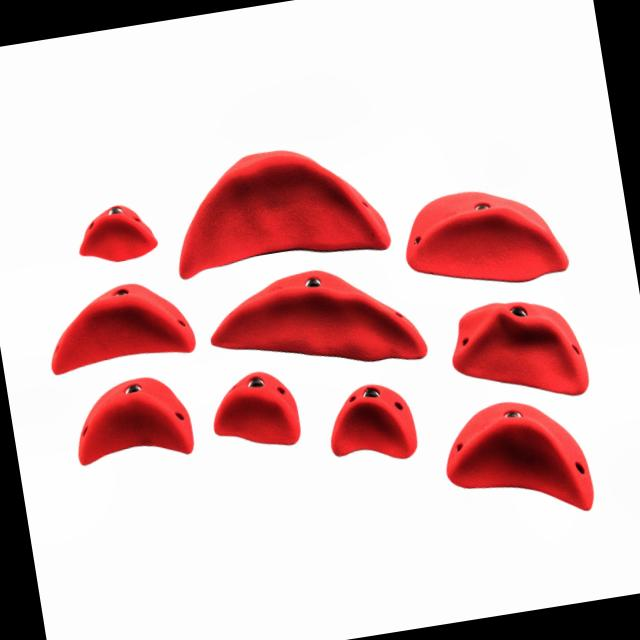Hold: (164, 134, 395, 289), (203, 258, 429, 390), (438, 392, 598, 536), (396, 173, 573, 300), (446, 290, 592, 414), (40, 273, 199, 384), (68, 371, 200, 473), (202, 368, 306, 460), (321, 378, 421, 460), (70, 196, 164, 270)
